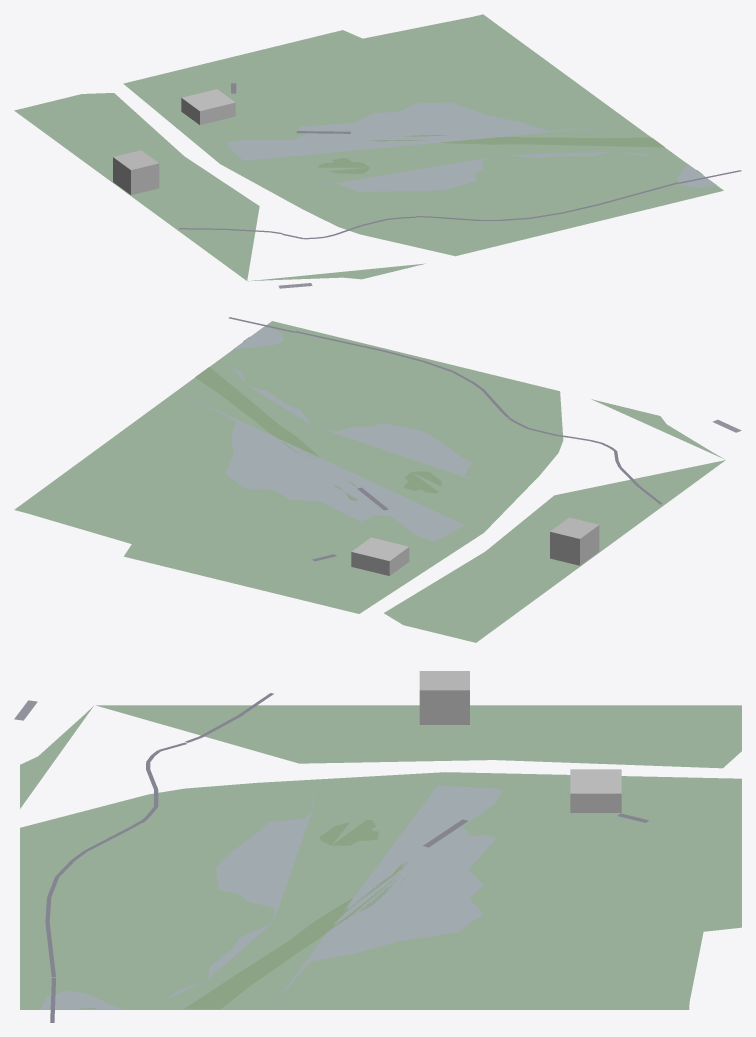
The model's file is 129_80_mid.glb.
3 renders of one model, top to bottom at view 1: azimuth 30°, elevation 25°; view 2: azimuth 150°, elevation 25°; view 3: azimuth 270°, elevation 25°, orthographic. The views are drawn at different scales.
Size of the model in its own units: 537 by 26.7 by 504.
